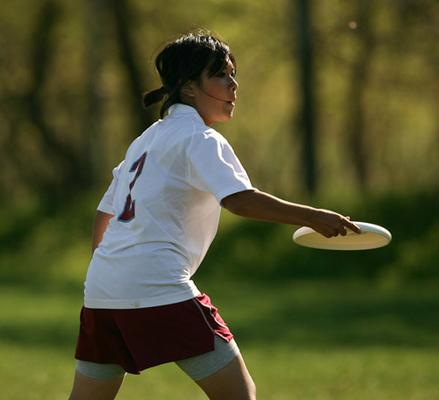person: (69, 34, 361, 400)
